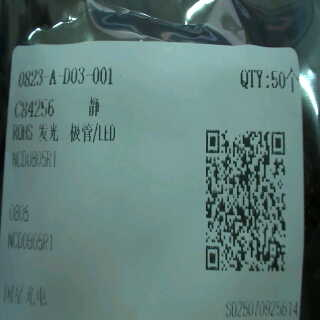LED: (30, 118, 122, 145)
